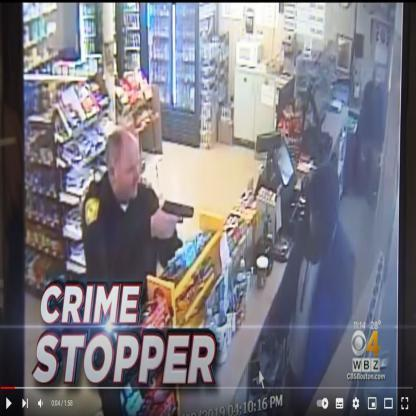pistols: (156, 199, 196, 241)
